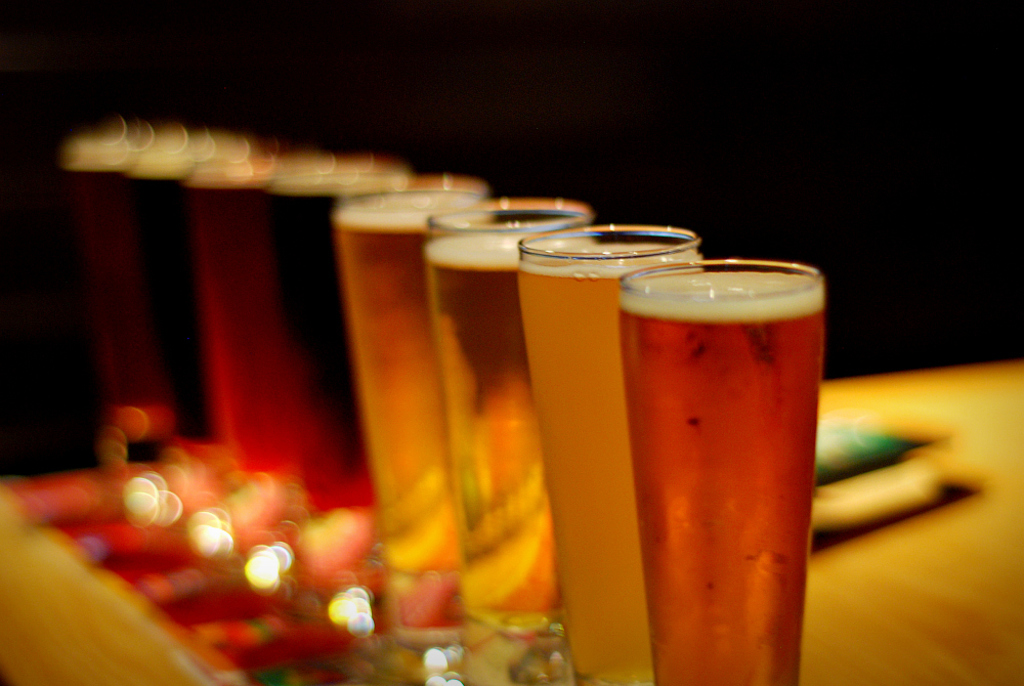Beer: (78, 122, 822, 684)
